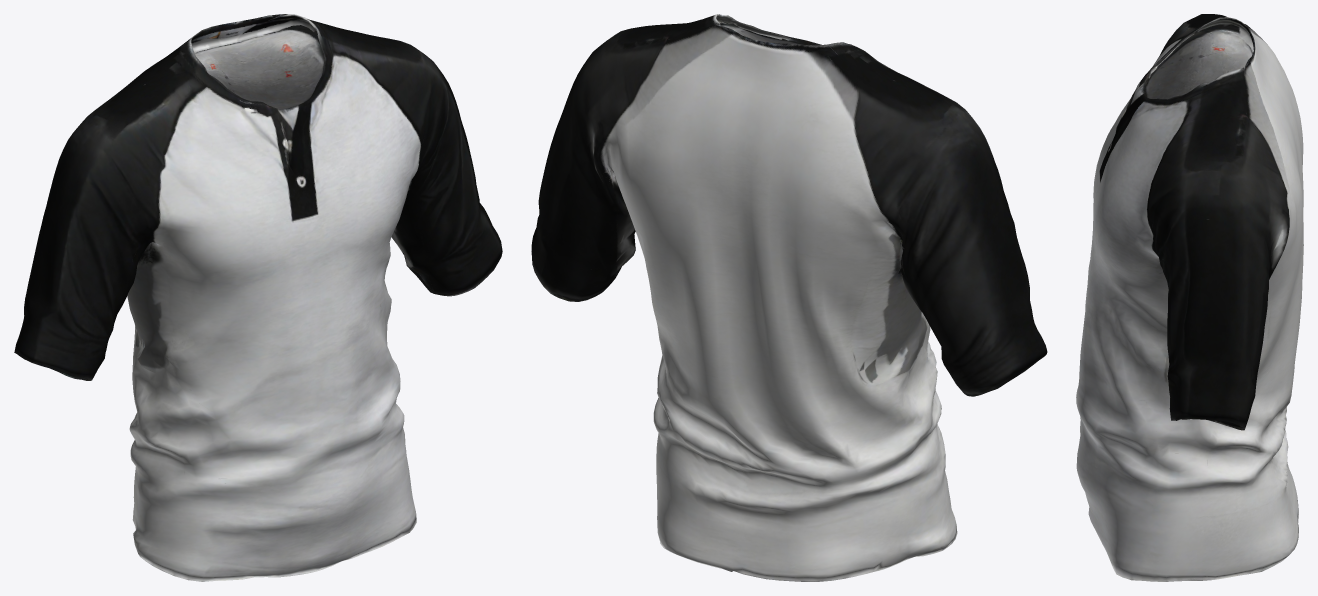
The picture shows the model from 3 angles, left to right: view 1: azimuth 30°, elevation 25°; view 2: azimuth 150°, elevation 25°; view 3: azimuth 270°, elevation 25°; orthographic projection. The views are drawn at different scales.
Size of the model in its own units: 1.99 by 1.97 by 0.8328.
Materials: 1 (1 with a texture image).
